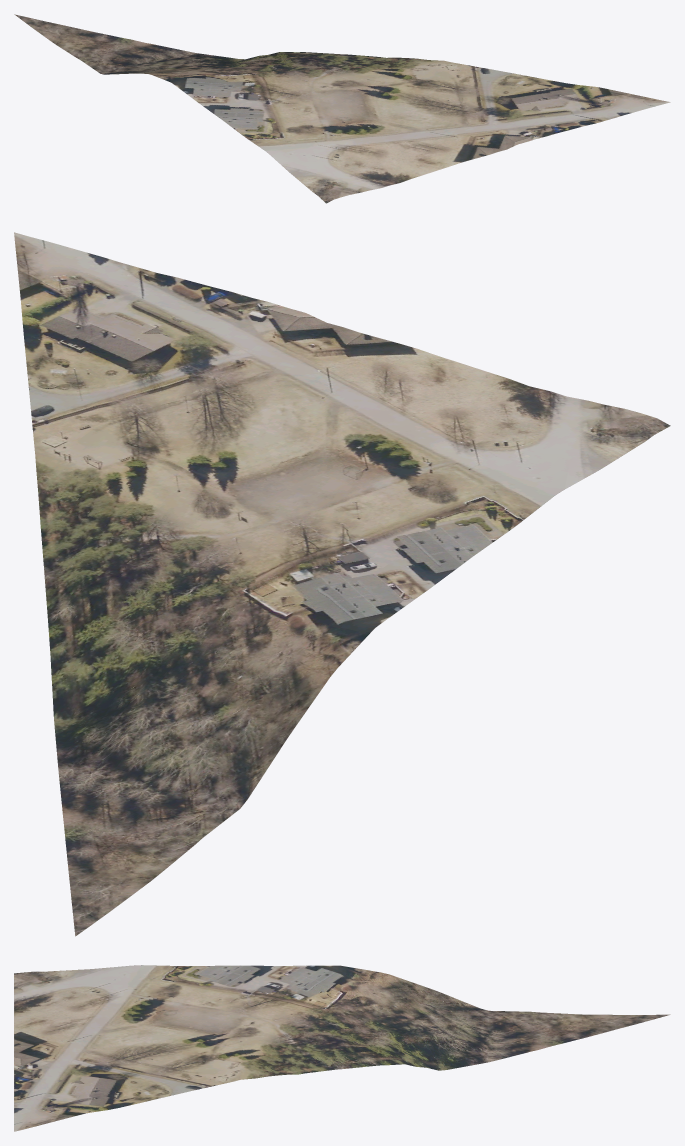
File: CM_Terrain_24492506_6818770.fbx
3 renders of one model, top to bottom at view 1: azimuth 30°, elevation 25°; view 2: azimuth 150°, elevation 25°; view 3: azimuth 270°, elevation 25°, orthographic. The views are drawn at different scales.
Parts seen in each view (by area): view 1: CM_Terrain_24492506_6818770_LOD0; view 2: CM_Terrain_24492506_6818770_LOD0; view 3: CM_Terrain_24492506_6818770_LOD0.
Part boxes in pixels (x1,y1,x2,y2): CM_Terrain_24492506_6818770_LOD0: (14, 14, 670, 203); CM_Terrain_24492506_6818770_LOD0: (14, 232, 670, 936); CM_Terrain_24492506_6818770_LOD0: (14, 965, 670, 1131).
Size of what is drawn, in the model's own units: 126 by 19.98 by 199.
